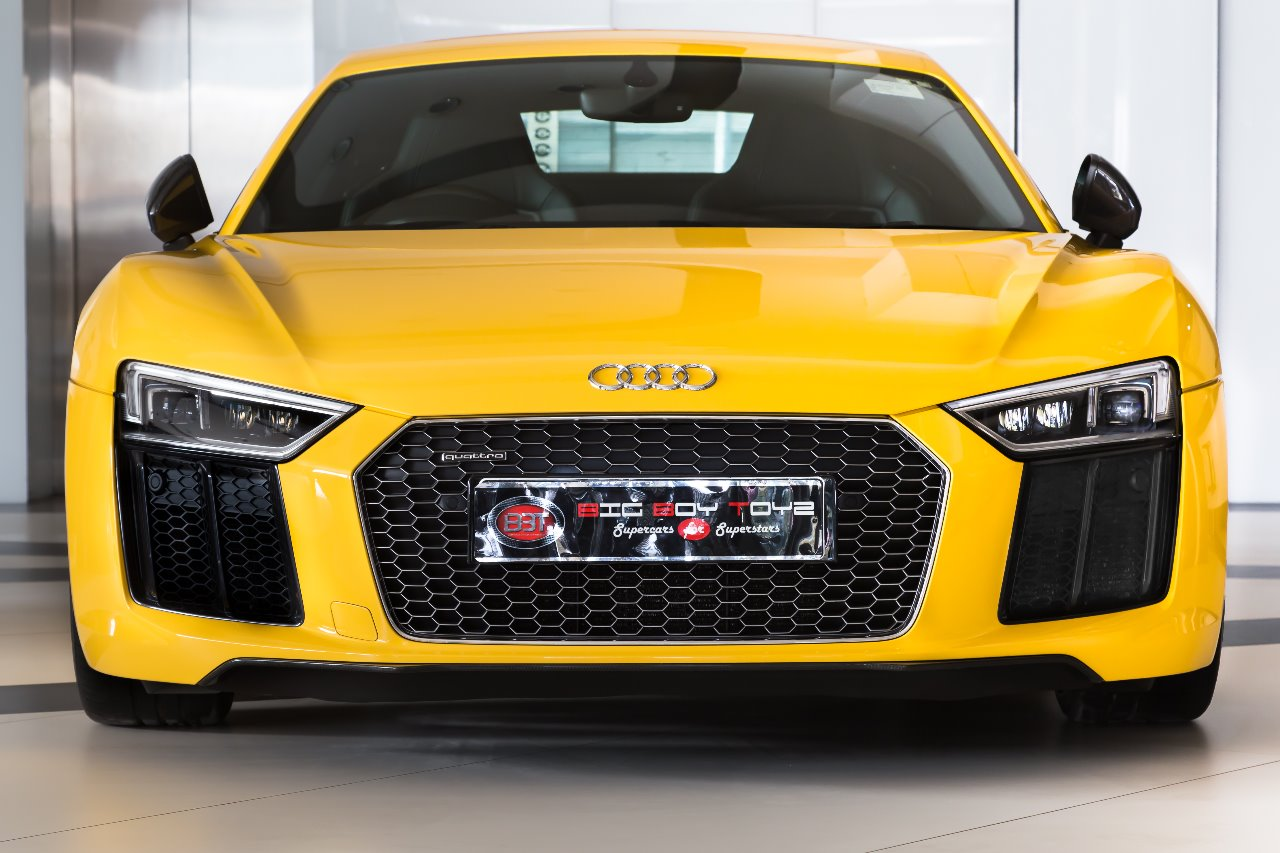audi: (54, 26, 1238, 759)
